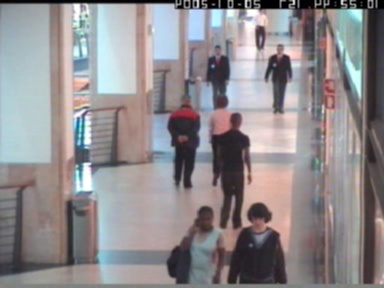person: (226, 202, 284, 283), (211, 113, 251, 229), (168, 206, 227, 284), (167, 95, 200, 186), (209, 95, 232, 186), (264, 43, 290, 112), (206, 43, 230, 110), (250, 9, 268, 51)
